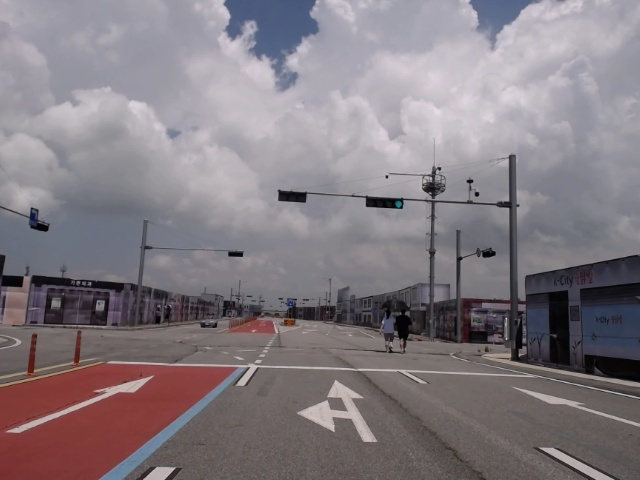straight_green_4: (365, 197, 403, 208)
